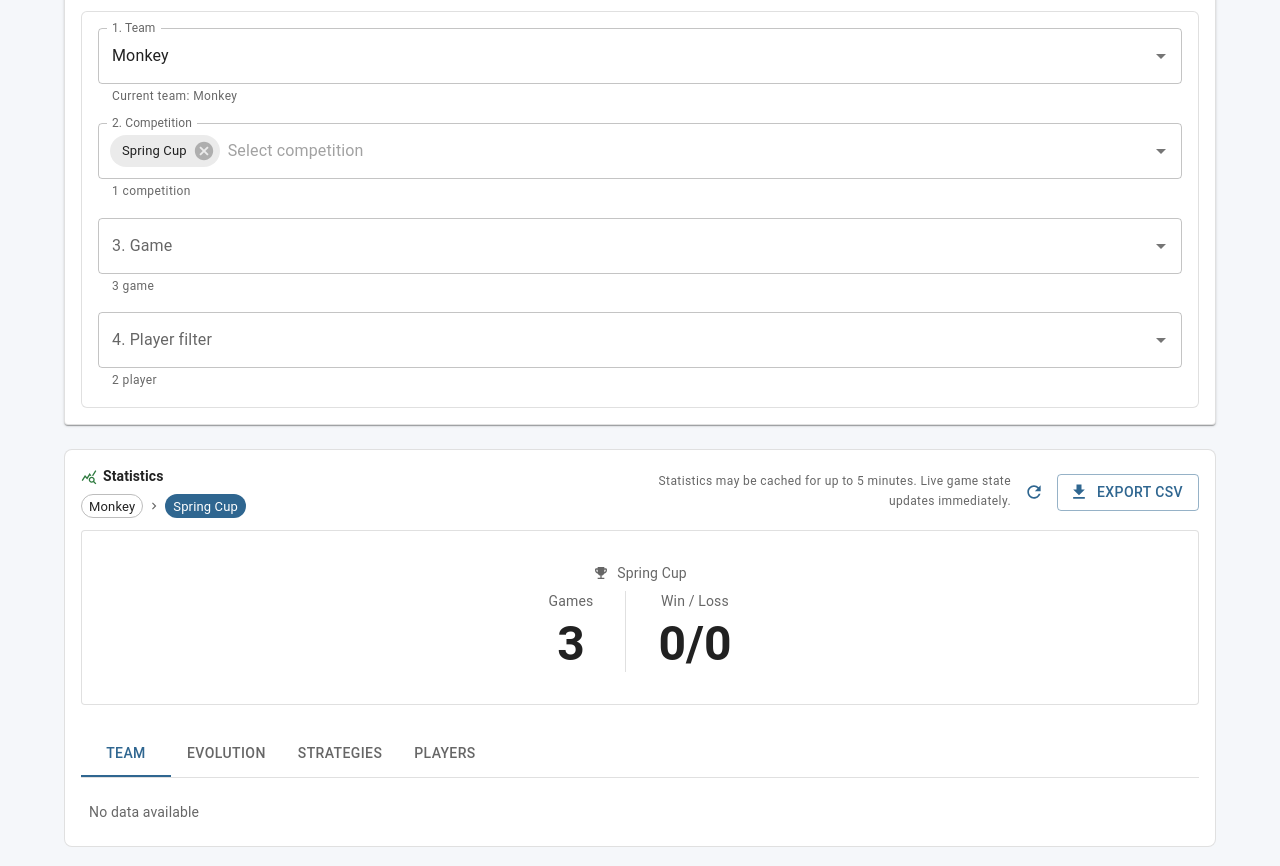
it: StatisticsPage › renders the evolution chart and table for the selected dataset
(page scrolled)
Step 1. Click the tab "Evolution" → (226, 753), box [171, 729, 282, 777]
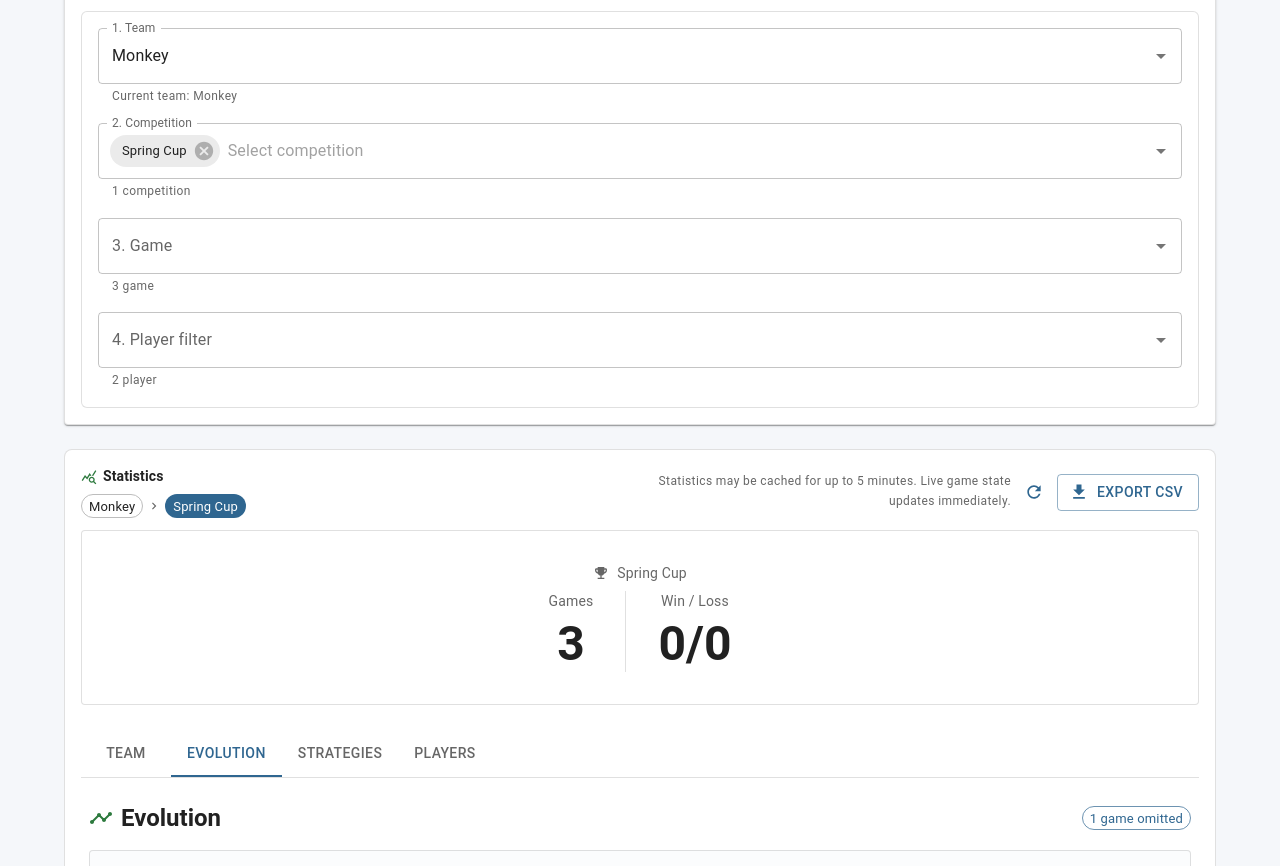
Result: the text "1 game omitted" is shown at [1083, 808, 1190, 828]
